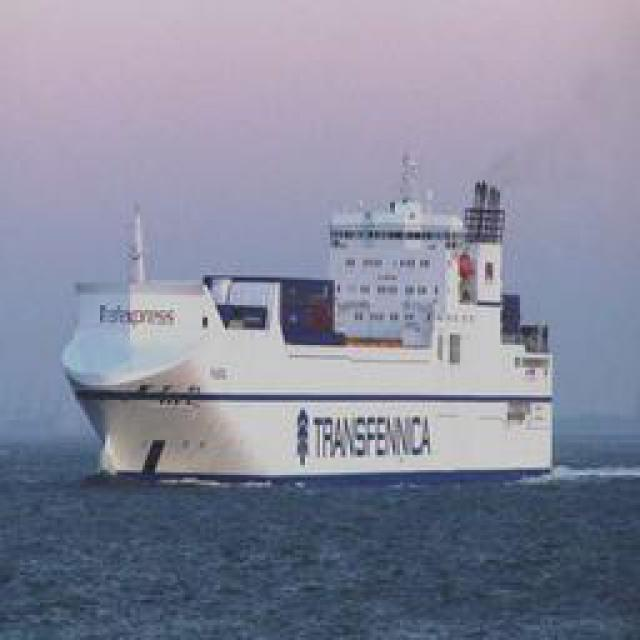Ship: (67, 141, 570, 481)
